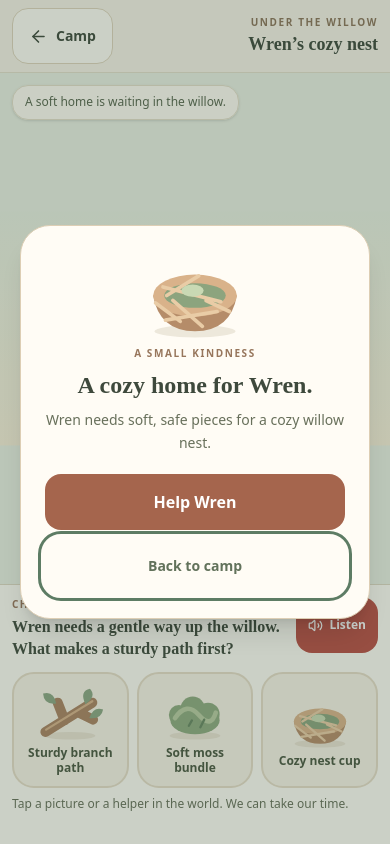
Test: accessible flagship planning › contains modal focus, removes the world controls from the accessibility tree, and restores focus
Press Tab
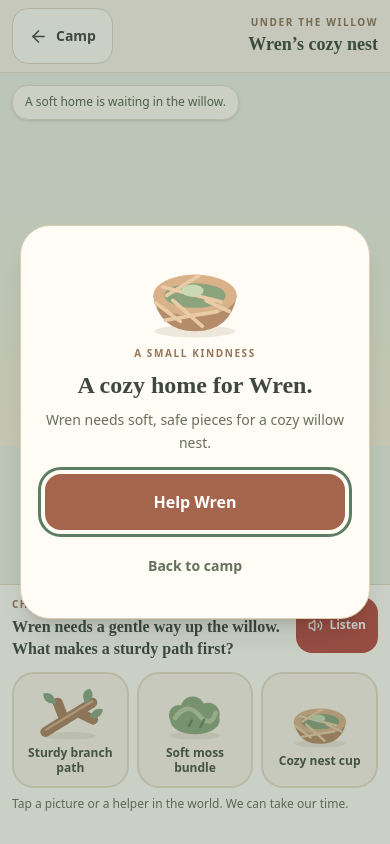
Press Tab
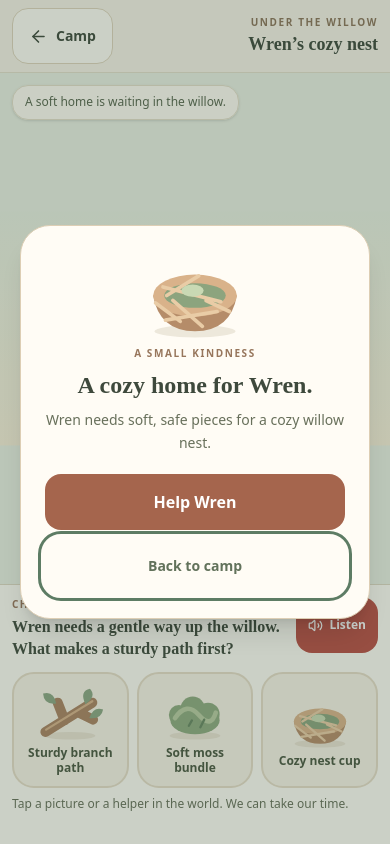
Click the button "Help Wren".
click(195, 502)  # box [45, 474, 345, 530]
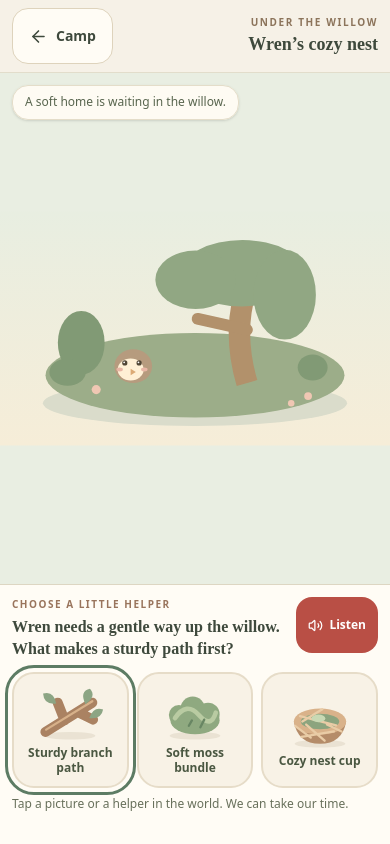
Click the button with aria-label "Back to camp".
click(62, 36)  # box [12, 8, 113, 64]
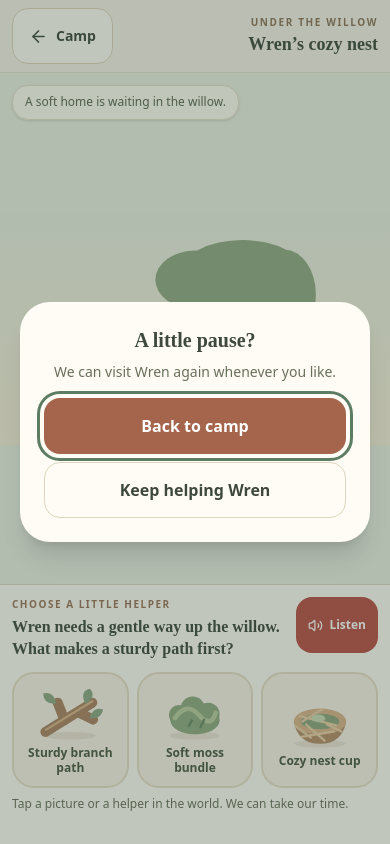
Press Escape
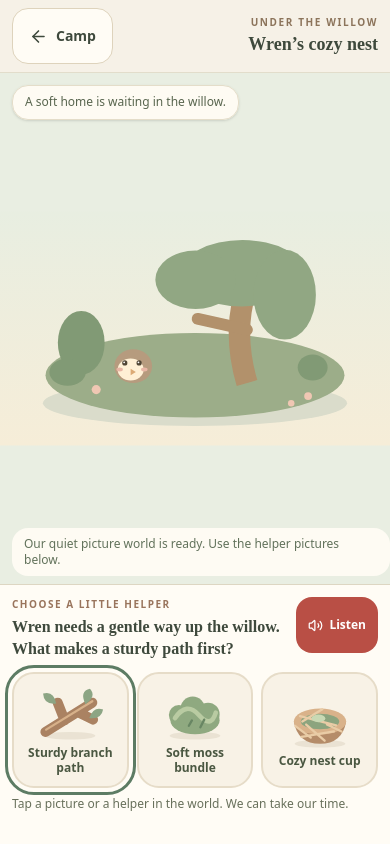
expect the dialog is gone: met
